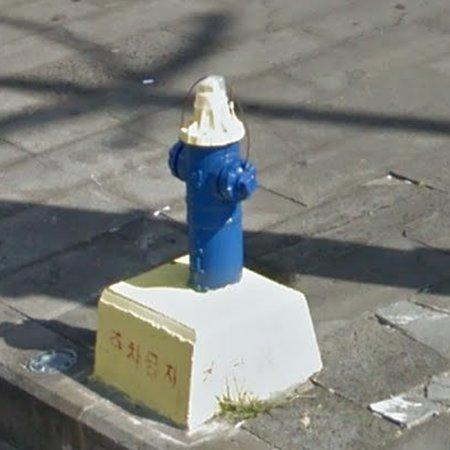a fire hydrant: (169, 75, 258, 292)
